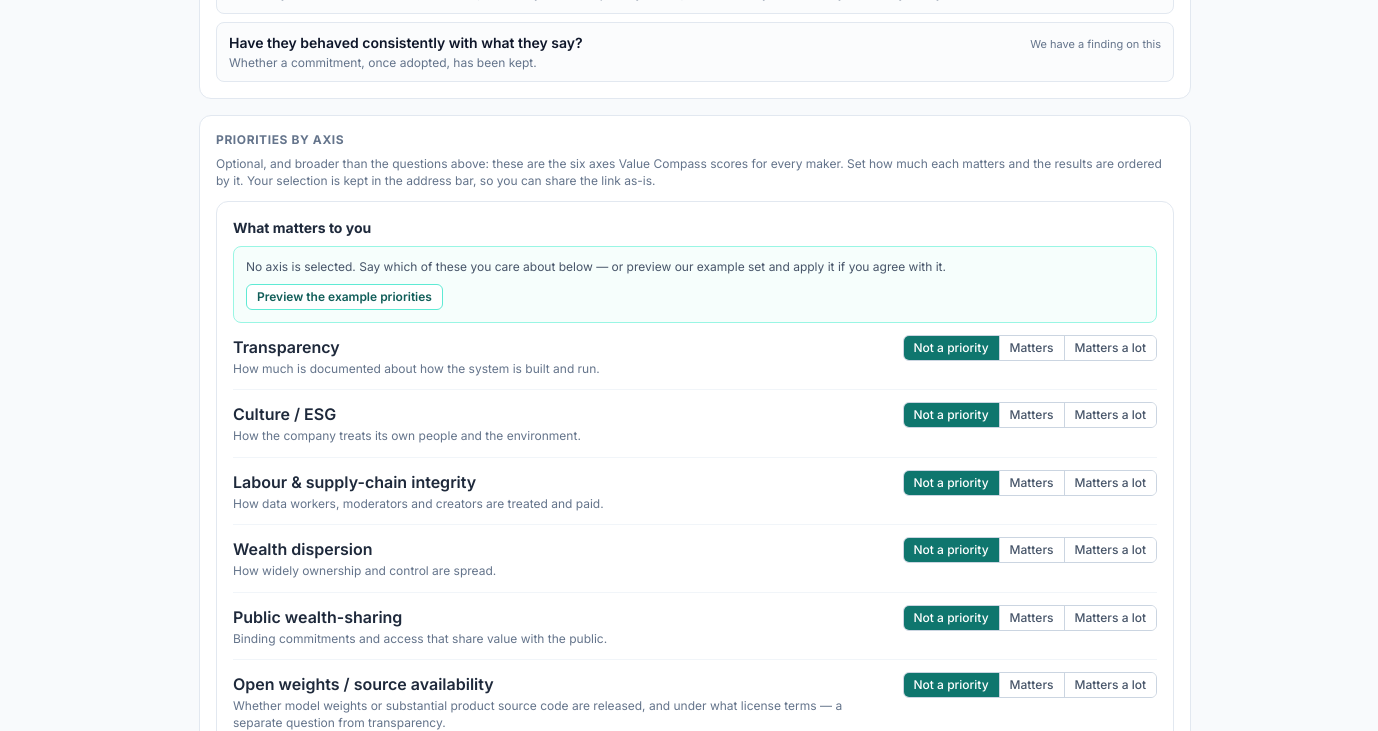
Test case: axis priorities in the tool finder › puts a clicked axis weight in the address bar
(page scrolled)
What coordinates should you click on to do the following:
click the 1st radio button labelled "Matters a lot"
I would click on:
 (1110, 348)
Its box is [1064,336,1156,360].
(page scrolled)
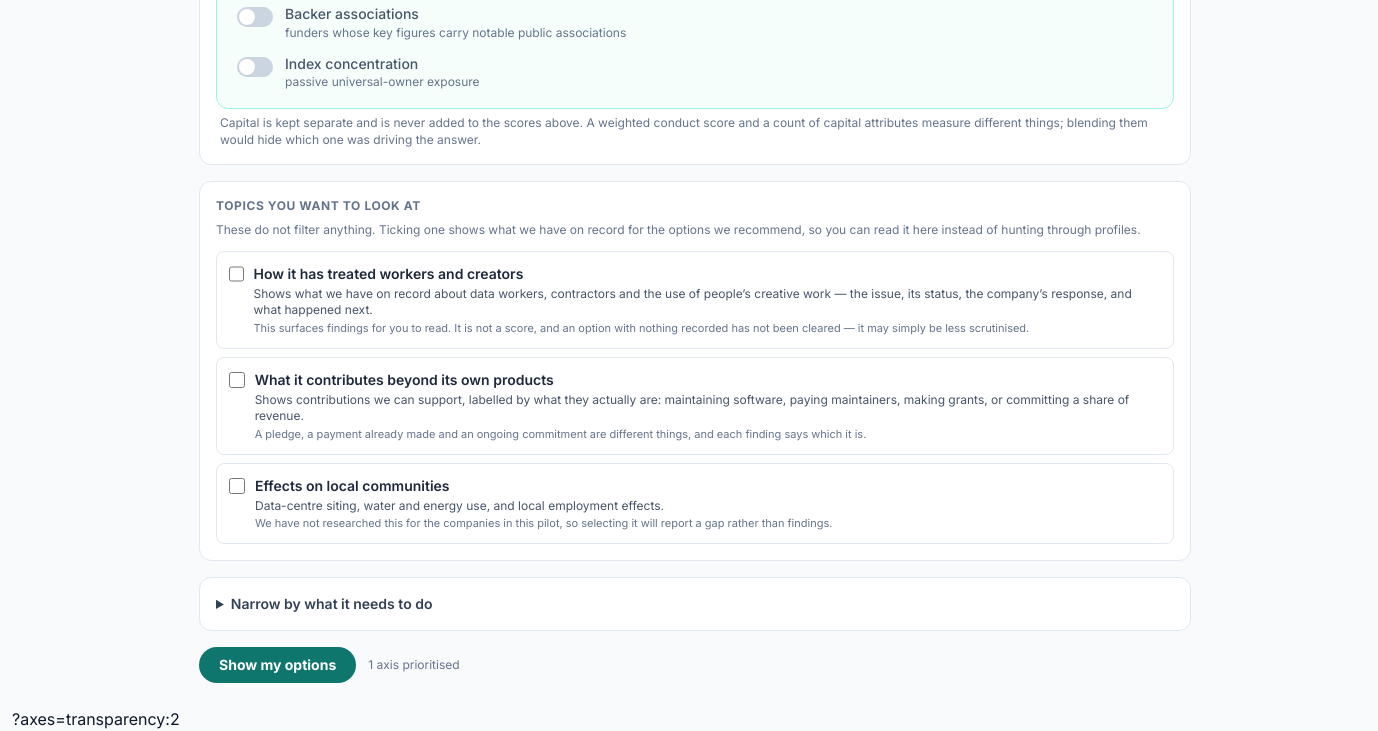
Now the text with test id "search" reads "?axes=transparency:2", box [12,709,180,729]
